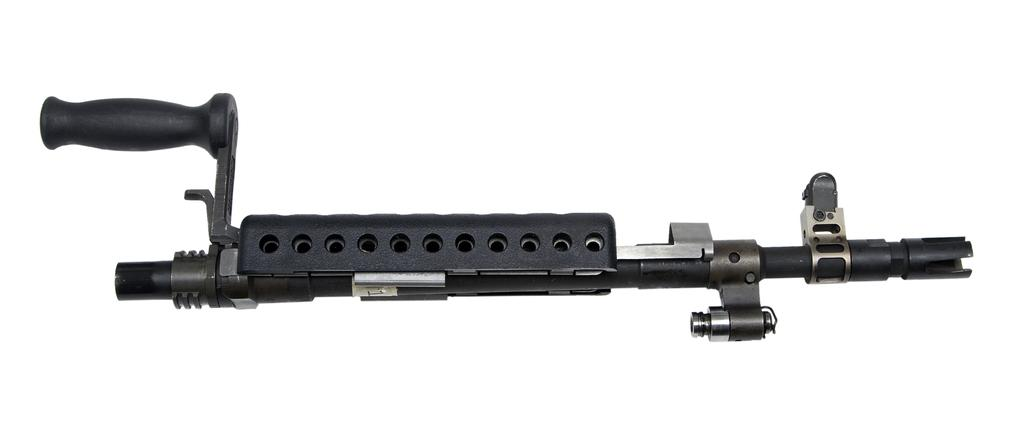Rifle: (35, 92, 974, 342)
